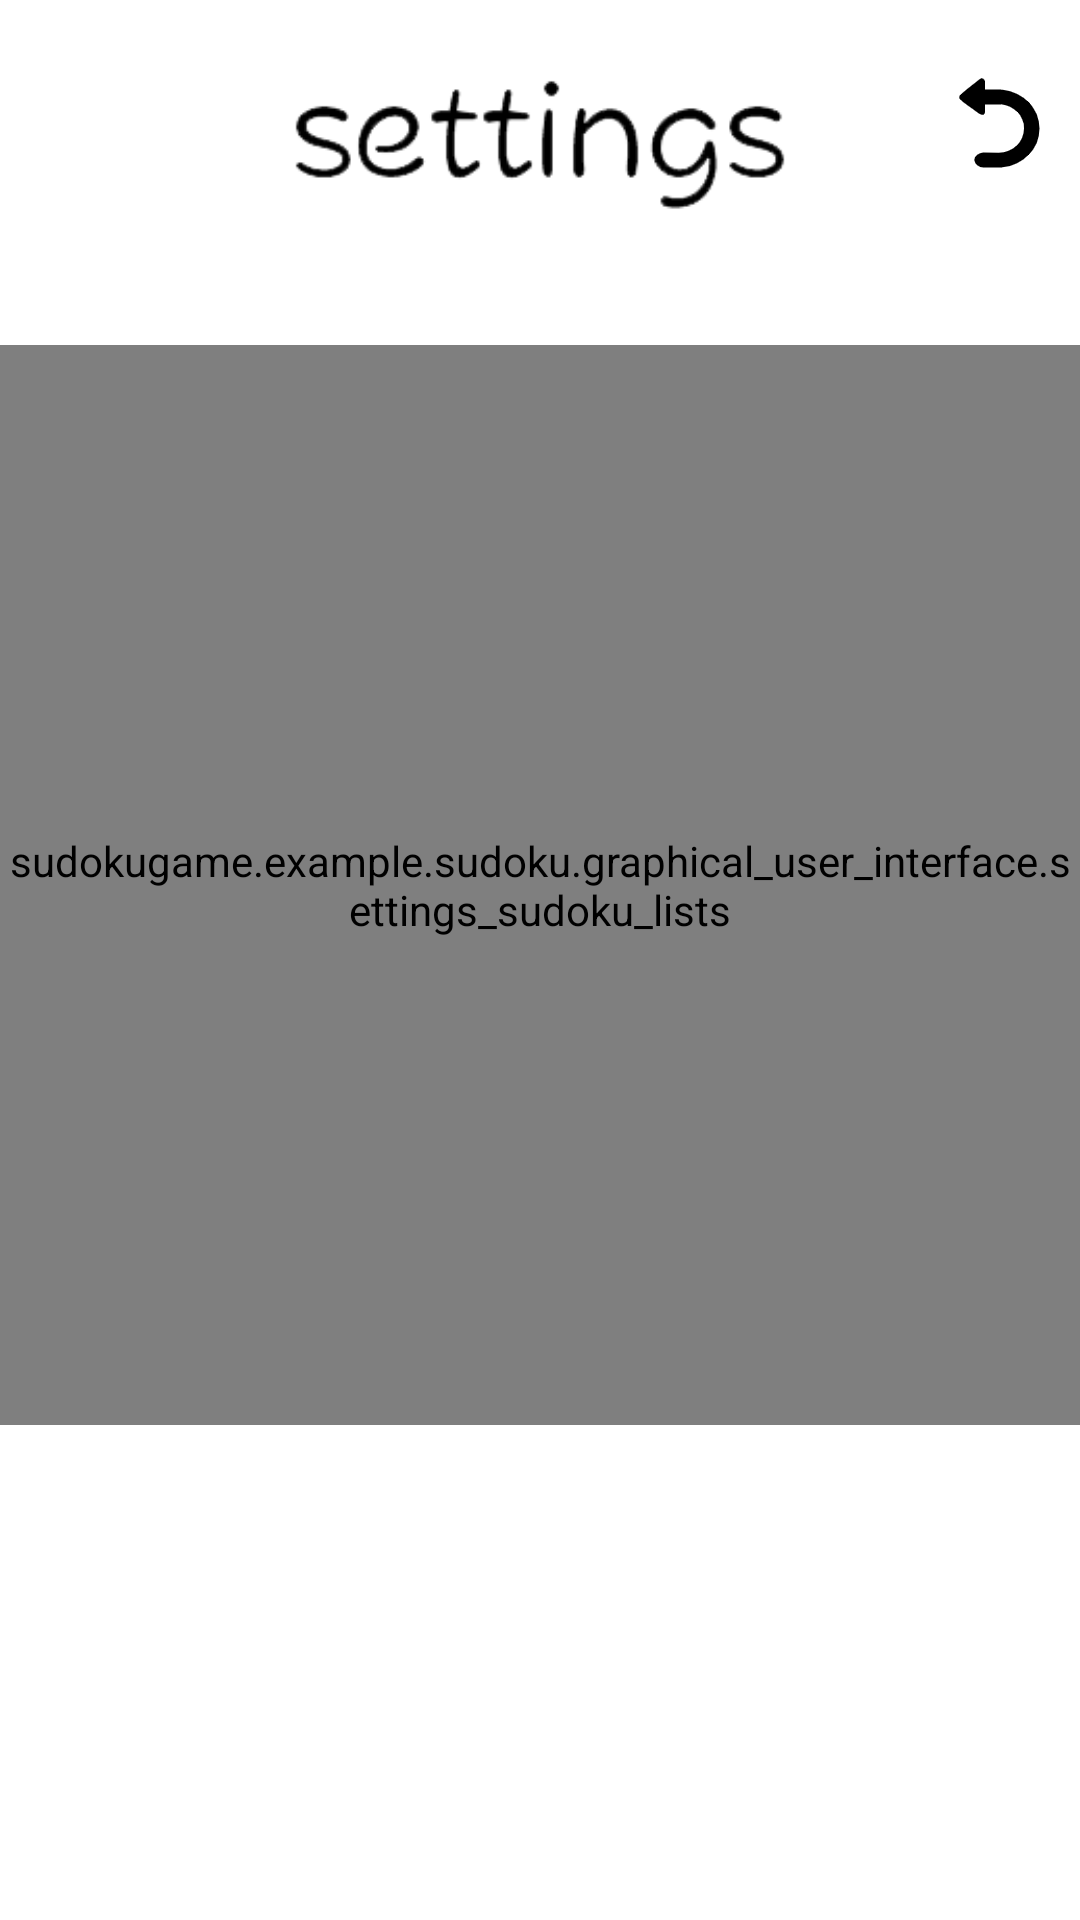

Icons on this 1080 x 1920 Android screen, each with the point to tap as (x,y):
laststep: (999,123)
